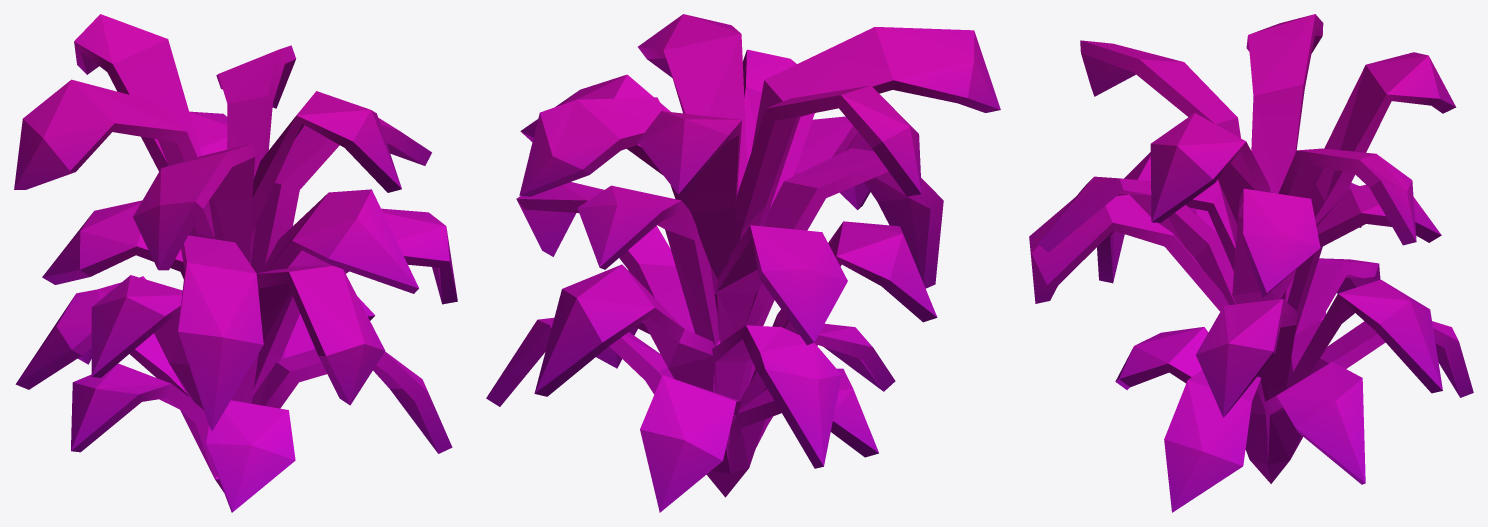
Rendered from SM_Plant_06.gltf.
The picture shows the model from 3 angles, left to right: view 1: azimuth 30°, elevation 25°; view 2: azimuth 150°, elevation 25°; view 3: azimuth 270°, elevation 25°; orthographic projection. The views are drawn at different scales.
Visible parts, largest first — view 1: SM_Plant_06; view 2: SM_Plant_06; view 3: SM_Plant_06.
Part boxes in pixels (x1,y1,x2,y2): SM_Plant_06: [14, 14, 457, 512]; SM_Plant_06: [486, 14, 1000, 512]; SM_Plant_06: [1029, 14, 1473, 512].
Bounding box in the file's own units: 1.05 × 1.09 × 1.07.
